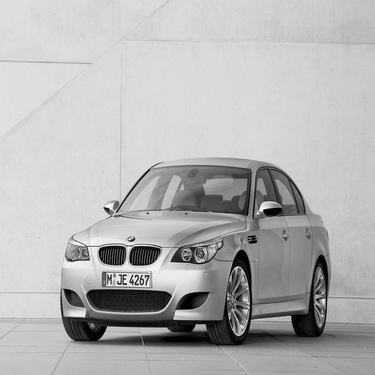car: (49, 148, 340, 350)
